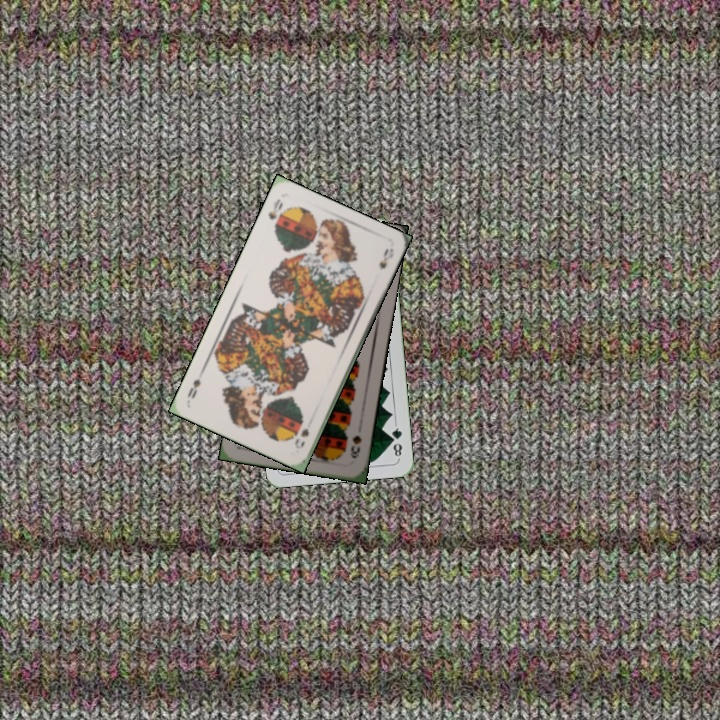G8: (387, 420, 405, 461)
S8: (346, 431, 364, 461)
SO: (264, 195, 286, 231), (290, 425, 312, 452)
